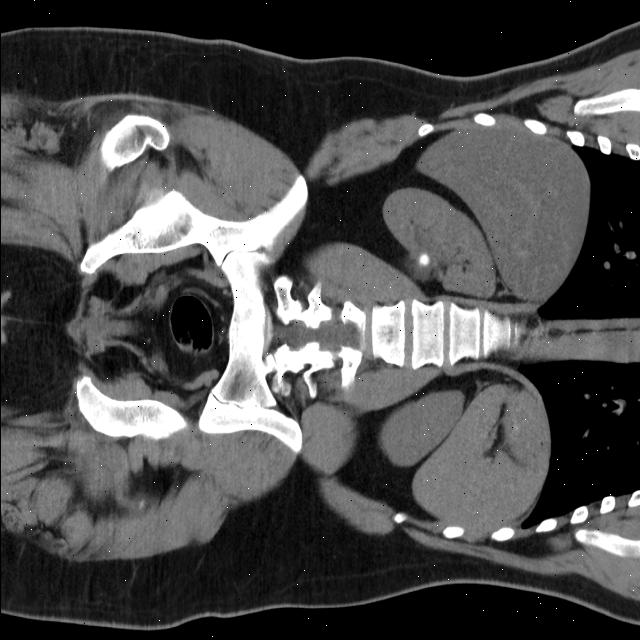kidneystone: (419, 253, 429, 266)
